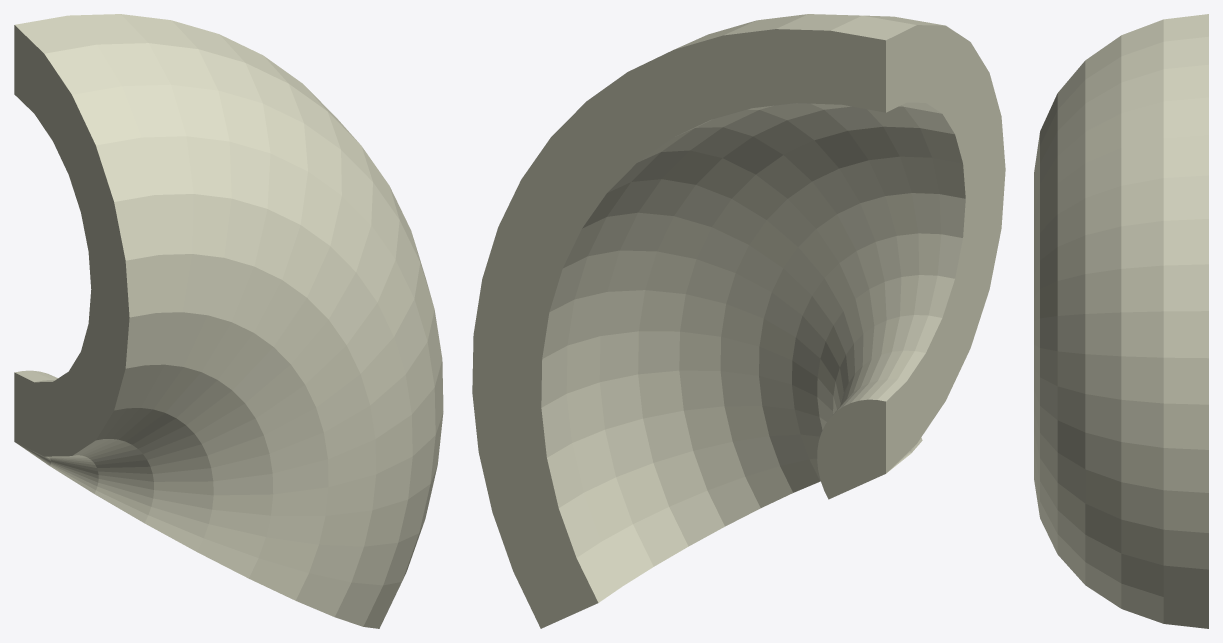
The model's file is section_007.obj.
The picture shows the model from 3 angles, left to right: view 1: azimuth 30°, elevation 25°; view 2: azimuth 150°, elevation 25°; view 3: azimuth 270°, elevation 25°; orthographic projection. The views are drawn at different scales.
Bounding box in the file's own units: 5.99 × 9.31 × 3.
